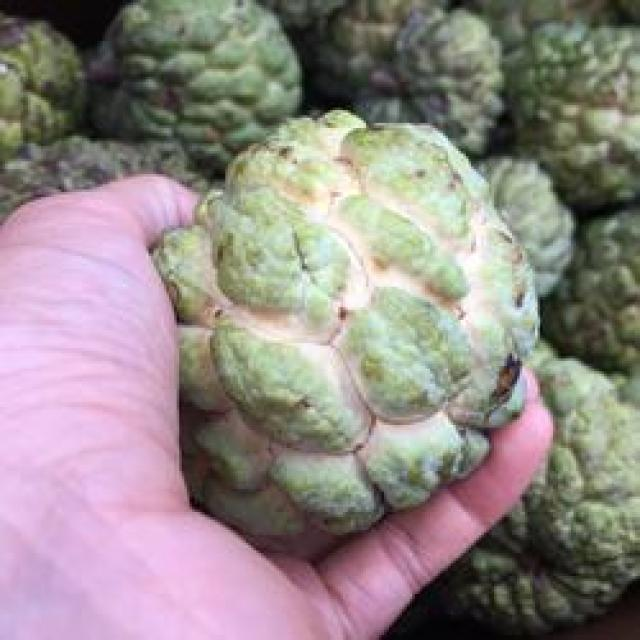apple: (158, 102, 538, 556)
